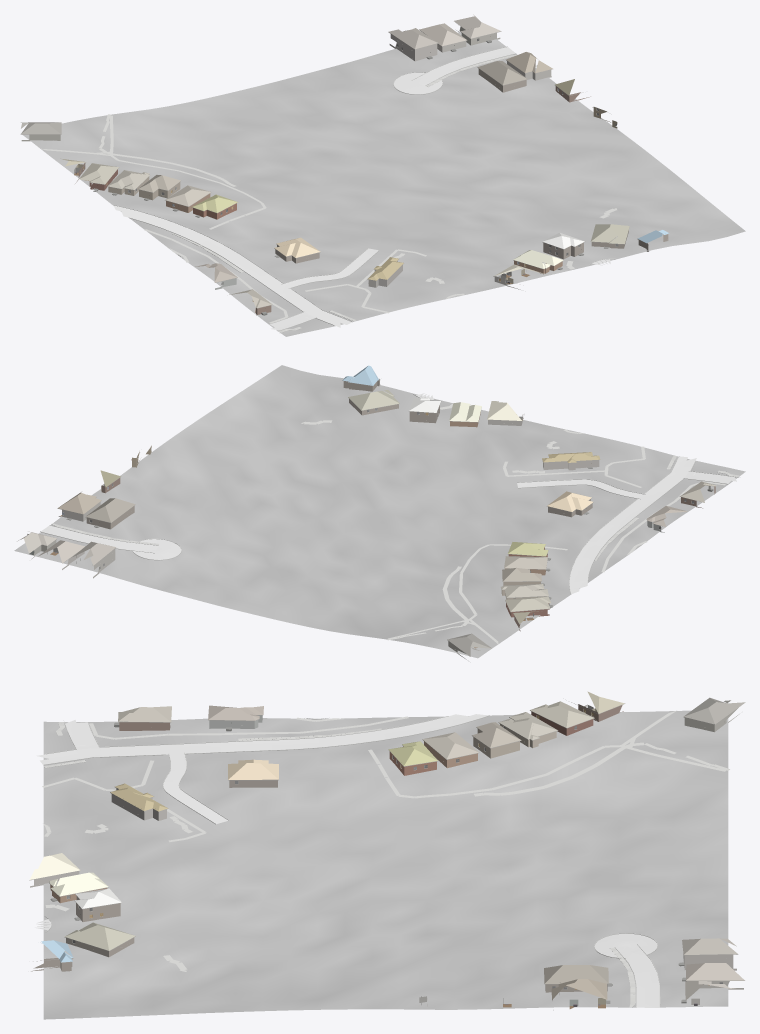
3 renders of one model, top to bottom at view 1: azimuth 30°, elevation 25°; view 2: azimuth 150°, elevation 25°; view 3: azimuth 270°, elevation 25°, orthographic. The views are drawn at different scales.
Parts seen in each view (by area): view 1: ground, roof, concrete, wall, walk, wall_stone, curb, detail, wall_stucco; view 2: ground, roof, concrete, walk, wall, wall_stone, curb, detail; view 3: ground, roof, concrete, walk, wall, curb, detail, wall_stone, wall_stucco.
Boxes of the visible parts, left/top/right/bottom form: ground: left=22, top=32, right=745, bottom=336; roof: left=21, top=14, right=669, bottom=307; concrete: left=113, top=47, right=610, bottom=330; wall: left=75, top=69, right=668, bottom=315; walk: left=40, top=54, right=616, bottom=332; wall_stone: left=368, top=34, right=551, bottom=289; curb: left=113, top=46, right=615, bottom=332; detail: left=21, top=26, right=668, bottom=315; wall_stucco: left=21, top=27, right=500, bottom=289; ground: left=14, top=365, right=745, bottom=658; roof: left=17, top=365, right=716, bottom=656; concrete: left=41, top=393, right=736, bottom=593; walk: left=52, top=403, right=739, bottom=644; wall: left=86, top=379, right=715, bottom=631; wall_stone: left=58, top=414, right=599, bottom=578; curb: left=40, top=393, right=738, bottom=593; detail: left=27, top=379, right=713, bottom=649; ground: left=43, top=710, right=728, bottom=1019; roof: left=29, top=691, right=745, bottom=1000; concrete: left=35, top=714, right=659, bottom=1007; walk: left=42, top=710, right=729, bottom=1007; wall: left=31, top=704, right=623, bottom=992; curb: left=43, top=715, right=660, bottom=1007; detail: left=29, top=702, right=744, bottom=1006; wall_stone: left=30, top=788, right=743, bottom=1010; wall_stucco: left=209, top=708, right=739, bottom=748.
Size of the model in its own units: 264 by 14.89 by 267.
